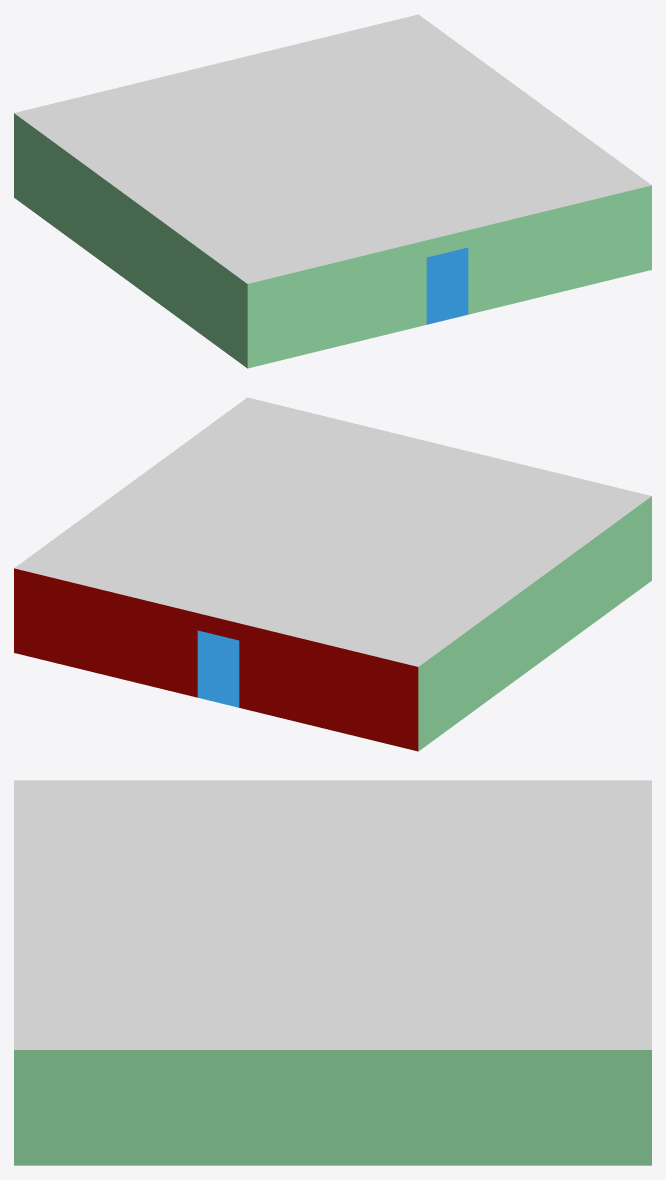
File: sample room.fbx
The picture shows the model from 3 angles, top to bottom: view 1: azimuth 30°, elevation 25°; view 2: azimuth 150°, elevation 25°; view 3: azimuth 270°, elevation 25°; orthographic projection. The views are drawn at different scales.
Visible parts, largest first — view 1: Cube; view 2: Cube; view 3: Cube.
Boxes of the visible parts, x1=… form: Cube: x1=14, y1=14, x2=651, y2=368; Cube: x1=14, y1=397, x2=651, y2=751; Cube: x1=14, y1=780, x2=651, y2=1165.
Bounding box in the file's own units: 1000 × 200 × 1000.
